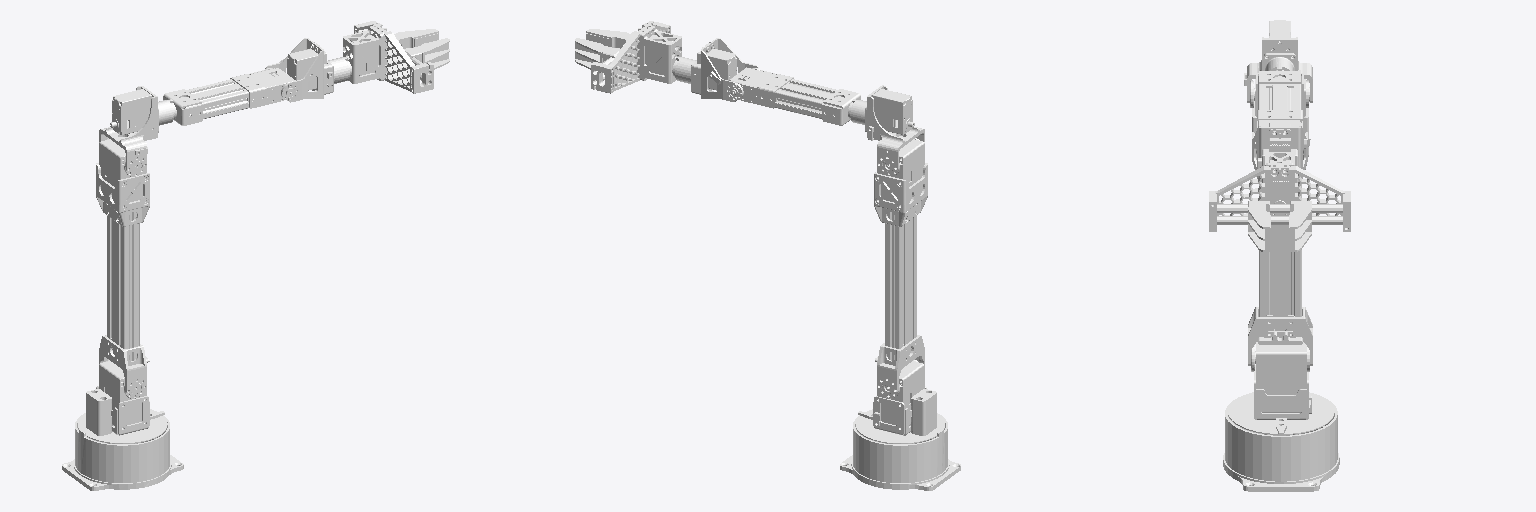
URDF robot description (d1_description):
<?xml version="1.0" encoding="utf-8"?>
<!-- This URDF was automatically created by SolidWorks to URDF Exporter! Originally created by [author] ([email redacted]) 
     Commit Version: 1.6.0-4-g7f85cfe  Build Version: 1.6.7995.38578
     For more information, please see http://wiki.ros.org/sw_urdf_exporter -->
<robot
  name="d1_description">
  <link
    name="base_link">
    <inertial>
      <origin
        xyz="-0.00048697 -2.9605E-12 0.017142"
        rpy="0 0 0" />
      <mass
        value="0.077233" />
      <inertia
        ixx="0.00010316"
        ixy="-1.0285E-14"
        ixz="2.0449E-07"
        iyy="0.00011888"
        iyz="7.3026E-15"
        izz="0.00018362" />
    </inertial>
    <visual>
      <origin
        xyz="0 0 0"
        rpy="0 0 0" />
      <geometry>
        <mesh
          filename="../stl/base_link.STL" />
      </geometry>
      <material
        name="">
        <color
          rgba="1 1 1 1" />
      </material>
    </visual>
    <collision>
      <origin
        xyz="0 0 0"
        rpy="0 0 0" />
      <geometry>
        <mesh
          filename="../stl/base_link.STL" />
      </geometry>
    </collision>
  </link>
  <link
    name="Link1">
    <inertial>
      <origin
        xyz="0.0024649 0.00010517 0.032696"
        rpy="0 0 0" />
      <mass
        value="0.13174" />
      <inertia
        ixx="6.7236E-05"
        ixy="-5.5664E-08"
        ixz="7.0454E-08"
        iyy="5.416E-05"
        iyz="-3.5709E-07"
        izz="4.6637E-05" />
    </inertial>
    <visual>
      <origin
        xyz="0 0 0"
        rpy="0 0 0" />
      <geometry>
        <mesh
          filename="../stl/Link1.STL" />
      </geometry>
      <material
        name="">
        <color
          rgba="1 1 1 1" />
      </material>
    </visual>
    <collision>
      <origin
        xyz="0 0 0"
        rpy="0 0 0" />
      <geometry>
        <mesh
          filename="../stl/Link1.STL" />
      </geometry>
    </collision>
  </link>
  <joint
    name="Joint1"
    type="revolute">
    <origin
      xyz="0 0 0.0533"
      rpy="0 0 -3.1416" />
    <parent
      link="base_link" />
    <child
      link="Link1" />
    <axis
      xyz="0 0 1" />
    <limit
      lower="-2.35"
      upper="2.35"
      effort="0"
      velocity="0" />
  </joint>
  <link
    name="Link2">
    <inertial>
      <origin
        xyz="0.0002018 0.19201 -0.027007"
        rpy="0 0 0" />
      <mass
        value="0.20213" />
      <inertia
        ixx="0.00025682"
        ixy="-1.139E-07"
        ixz="5.5667E-08"
        iyy="6.3307E-05"
        iyz="-3.5717E-07"
        izz="0.00022968" />
    </inertial>
    <visual>
      <origin
        xyz="0 0 0"
        rpy="0 0 0" />
      <geometry>
        <mesh
          filename="../stl/Link2.STL" />
      </geometry>
      <material
        name="">
        <color
          rgba="1 1 1 1" />
      </material>
    </visual>
    <collision>
      <origin
        xyz="0 0 0"
        rpy="0 0 0" />
      <geometry>
        <mesh
          filename="stl/Link2.STL" />
      </geometry>
    </collision>
  </link>
  <joint
    name="Joint2"
    type="revolute">
    <origin
      xyz="0 0.028 0.0563"
      rpy="1.5708 0 -3.1416" />
    <parent
      link="Link1" />
    <child
      link="Link2" />
    <axis
      xyz="0 0 -1" />
    <limit
      lower="-1.57"
      upper="1.57"
      effort="0"
      velocity="0" />
  </joint>
  <link
    name="Link3">
    <inertial>
      <origin
        xyz="0.015164 0.044482 -0.027461"
        rpy="0 0 0" />
      <mass
        value="0.0629" />
      <inertia
        ixx="1.7232E-05"
        ixy="-2.6967E-06"
        ixz="-9.4911E-11"
        iyy="1.2606E-05"
        iyz="-9.9169E-11"
        izz="1.4964E-05" />
    </inertial>
    <visual>
      <origin
        xyz="0 0 0"
        rpy="0 0 0" />
      <geometry>
        <mesh
          filename="../stl/Link3.STL" />
      </geometry>
      <material
        name="">
        <color
          rgba="1 1 1 1" />
      </material>
    </visual>
    <collision>
      <origin
        xyz="0 0 0"
        rpy="0 0 0" />
      <geometry>
        <mesh
          filename="../stl/Link3.STL" />
      </geometry>
    </collision>
  </link>
  <joint
    name="Joint3"
    type="revolute">
    <origin
      xyz="0 0.2693 0.0009"
      rpy="0 0 0" />
    <parent
      link="Link2" />
    <child
      link="Link3" />
    <axis
      xyz="0 0 -1" />
    <limit
      lower="-1.57"
      upper="1.57"
      effort="0"
      velocity="0" />
  </joint>
  <link
    name="Link4">
    <inertial>
      <origin
        xyz="-0.00029556 -0.00016104 0.091339"
        rpy="0 0 0" />
      <mass
        value="0.083332" />
      <inertia
        ixx="3.9308E-05"
        ixy="1.0126E-08"
        ixz="-9.4316E-08"
        iyy="3.4378E-05"
        iyz="-1.6915E-09"
        izz="1.1597E-05" />
    </inertial>
    <visual>
      <origin
        xyz="0 0 0"
        rpy="0 0 0" />
      <geometry>
        <mesh
          filename="../stl/Link4.STL" />
      </geometry>
      <material
        name="">
        <color
          rgba="1 1 1 1" />
      </material>
    </visual>
    <collision>
      <origin
        xyz="0 0 0"
        rpy="0 0 0" />
      <geometry>
        <mesh
          filename="../stl/Link4.STL" />
      </geometry>
    </collision>
  </link>
  <joint
    name="Joint4"
    type="revolute">
    <origin
      xyz="0.0577 0.042 -0.0275"
      rpy="-1.5708 0 -1.5708" />
    <parent
      link="Link3" />
    <child
      link="Link4" />
    <axis
      xyz="0 0 1" />
    <limit
      lower="-2.35"
      upper="2.35"
      effort="0"
      velocity="0" />
  </joint>
  <link
    name="Link5">
    <inertial>
      <origin
        xyz="0.040573 0.0062891 -0.023838"
        rpy="0 0 0" />
      <mass
        value="0.053817" />
      <inertia
        ixx="1.3072E-05"
        ixy="-3.9511E-07"
        ixz="-3.1889E-10"
        iyy="8.6301E-06"
        iyz="-1.8416E-09"
        izz="1.1049E-05" />
    </inertial>
    <visual>
      <origin
        xyz="0 0 0"
        rpy="0 0 0" />
      <geometry>
        <mesh
          filename="../stl/Link5.STL" />
      </geometry>
      <material
        name="">
        <color
          rgba="1 1 1 1" />
      </material>
    </visual>
    <collision>
      <origin
        xyz="0 0 0"
        rpy="0 0 0" />
      <geometry>
        <mesh
          filename="../stl/Link5.STL" />
      </geometry>
    </collision>
  </link>
  <joint
    name="Joint5"
    type="revolute">
    <origin
      xyz="-0.0001 -0.0237 0.14018"
      rpy="1.5708 -1.5708 0" />
    <parent
      link="Link4" />
    <child
      link="Link5" />
    <axis
      xyz="0 0 -1" />
    <limit
      lower="-1.57"
      upper="1.57"
      effort="0"
      velocity="0" />
  </joint>
  <link
    name="Link6">
    <inertial>
      <origin
        xyz="-0.0068528 -3.9973E-06 0.039705"
        rpy="0 0 0" />
      <mass
        value="0.077892" />
      <inertia
        ixx="3.8236E-05"
        ixy="1.3465E-08"
        ixz="-2.0614E-07"
        iyy="1.7707E-05"
        iyz="-6.7117E-10"
        izz="4.8839E-05" />
    </inertial>
    <visual>
      <origin
        xyz="0 0 0"
        rpy="0 0 0" />
      <geometry>
        <mesh
          filename="../stl/Link6.STL" />
      </geometry>
      <material
        name="">
        <color
          rgba="1 1 1 1" />
      </material>
    </visual>
    <collision>
      <origin
        xyz="0 0 0"
        rpy="0 0 0" />
      <geometry>
        <mesh
          filename="../stl/Link6.STL" />
      </geometry>
    </collision>
  </link>
  <joint
    name="Joint6"
    type="revolute">
    <origin
      xyz="0.0825 -0.0010782 -0.023822"
      rpy="-1.5708 0 -1.5708" />
    <parent
      link="Link5" />
    <child
      link="Link6" />
    <axis
      xyz="0 0 -1" />
    <limit
      lower="-2.35"
      upper="2.35"
      effort="0"
      velocity="0" />
  </joint>
  <link
    name="Link7_1">
    <inertial>
      <origin
        xyz="0.018927 0.006 0.012082"
        rpy="0 0 0" />
      <mass
        value="0.015046" />
      <inertia
        ixx="1.2692E-06"
        ixy="7.7441E-20"
        ixz="-1.133E-07"
        iyy="2.0229E-06"
        iyz="1.2044E-20"
        izz="2.6177E-06" />
    </inertial>
    <visual>
      <origin
        xyz="0 0 0"
        rpy="0 0 0" />
      <geometry>
        <mesh
          filename="../stl/Link7_1.STL" />
      </geometry>
      <material
        name="">
        <color
          rgba="1 1 1 1" />
      </material>
    </visual>
    <collision>
      <origin
        xyz="0 0 0"
        rpy="0 0 0" />
      <geometry>
        <mesh
          filename="../stl/Link7_1.STL" />
      </geometry>
    </collision>
  </link>
  <joint
    name="Joint7_1"
    type="prismatic">
    <origin
      xyz="-0.0056012 -0.029636 0.0706"
      rpy="-1.5714 -1.5708 0" />
    <parent
      link="Link6" />
    <child
      link="Link7_1" />
    <axis
      xyz="0 0 -1" />
    <limit
      lower="0"
      upper="0.03"
      effort="0"
      velocity="0" />
  </joint>
  <link
    name="Link7_2">
    <inertial>
      <origin
        xyz="0.018927 -0.006 0.012082"
        rpy="0 0 0" />
      <mass
        value="0.015046" />
      <inertia
        ixx="1.2692E-06"
        ixy="-7.8273E-20"
        ixz="-1.133E-07"
        iyy="2.0229E-06"
        iyz="-1.2122E-20"
        izz="2.6177E-06" />
    </inertial>
    <visual>
      <origin
        xyz="0 0 0"
        rpy="0 0 0" />
      <geometry>
        <mesh
          filename="../stl/Link7_2.STL" />
      </geometry>
      <material
        name="">
        <color
          rgba="1 1 1 1" />
      </material>
    </visual>
    <collision>
      <origin
        xyz="0 0 0"
        rpy="0 0 0" />
      <geometry>
        <mesh
          filename="../stl/Link7_2.STL" />
      </geometry>
    </collision>
  </link>
  <joint
    name="Joint7_2"
    type="prismatic">
    <origin
      xyz="-0.0056388 0.02964 0.0706"
      rpy="1.5702 -1.5708 0" />
    <parent
      link="Link6" />
    <child
      link="Link7_2" />
    <axis
      xyz="0 0 1" />
    <limit
      lower="-0.03"
      upper="0"
      effort="0"
      velocity="0" />
  </joint>
</robot>

--- Facts derived from the render (not from the file) ---
The picture shows the robot from 3 angles, left to right: view 1: azimuth 30°, elevation 25°; view 2: azimuth 150°, elevation 25°; view 3: azimuth 270°, elevation 25°; orthographic projection.
Robot: d1_description — 9 links, 8 joints (6 revolute, 2 prismatic); root link base_link; default pose: all joints at 0.
Visible links, largest first — view 1: Link2, base_link, Link1, Link4, Link6, Link3, Link5, Link7_1, Link7_2; view 2: Link2, base_link, Link1, Link4, Link6, Link3, Link5, Link7_2, Link7_1; view 3: base_link, Link1, Link2, Link6, Link4, Link3, Link5, Link7_1, Link7_2.
Link boxes in pixels (box(x1,y1,x2,y2)): Link2: box(96, 137, 149, 393); base_link: box(62, 409, 183, 490); Link1: box(78, 360, 167, 443); Link4: box(163, 68, 295, 125); Link6: box(343, 21, 433, 93); Link3: box(99, 86, 173, 171); Link5: box(265, 38, 349, 102); Link7_1: box(404, 38, 449, 69); Link7_2: box(394, 29, 438, 48); Link2: box(874, 136, 927, 392); base_link: box(840, 409, 960, 490); Link1: box(856, 360, 944, 443); Link4: box(729, 67, 860, 125); Link6: box(591, 21, 681, 93); Link3: box(850, 85, 924, 170); Link5: box(675, 38, 758, 101); Link7_2: box(575, 38, 620, 69); Link7_1: box(586, 29, 630, 48); base_link: box(1223, 392, 1339, 491); Link1: box(1228, 342, 1334, 435); Link2: box(1248, 79, 1312, 365); Link6: box(1209, 152, 1350, 231); Link4: box(1254, 70, 1308, 153); Link3: box(1244, 20, 1312, 102); Link5: box(1252, 123, 1310, 182); Link7_1: box(1248, 201, 1270, 251); Link7_2: box(1289, 201, 1311, 251).
Size in the robot's own frame: 0.465 by 0.132 by 0.4586 metres.
9 mesh visuals loaded from 9 distinct referenced files (9 binary STL).